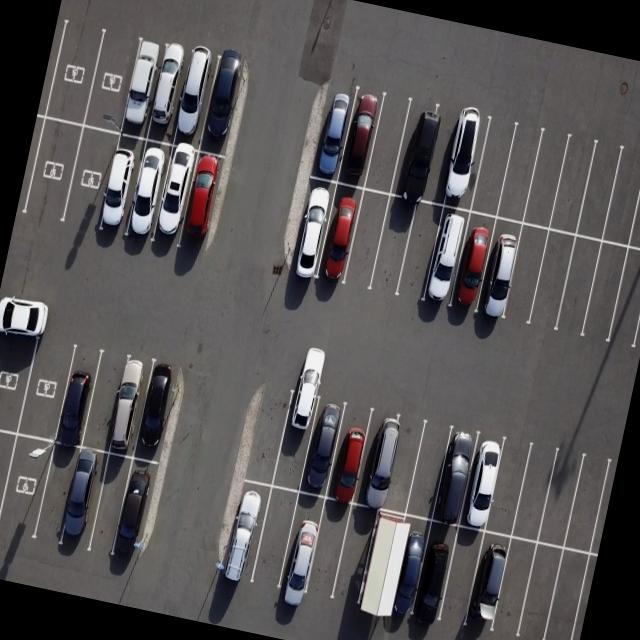car: (369, 514, 431, 628), (404, 520, 464, 634), (217, 478, 274, 592), (274, 486, 330, 600), (94, 352, 153, 459), (175, 149, 232, 256), (92, 130, 146, 242), (388, 97, 446, 201), (122, 135, 176, 246), (147, 142, 201, 252), (110, 458, 165, 566), (426, 427, 483, 530), (463, 531, 517, 639), (314, 182, 368, 290), (327, 506, 382, 612), (59, 448, 112, 556), (268, 386, 322, 492), (49, 346, 103, 452), (353, 409, 408, 512), (444, 208, 496, 316), (474, 215, 526, 322), (322, 401, 376, 504), (289, 177, 340, 286), (420, 204, 472, 310), (453, 432, 508, 532), (296, 394, 349, 497), (336, 88, 388, 192), (438, 112, 491, 214), (132, 361, 184, 464), (167, 48, 217, 150), (198, 54, 248, 156), (117, 38, 166, 140), (311, 83, 359, 185), (146, 43, 192, 142)
free: (16, 328, 80, 442), (19, 114, 82, 226), (60, 123, 120, 236), (432, 520, 491, 632), (42, 15, 102, 124), (247, 486, 304, 598), (349, 508, 406, 618), (82, 29, 141, 134), (80, 348, 138, 454), (484, 535, 542, 640), (298, 498, 354, 606), (0, 435, 55, 542), (575, 238, 628, 344), (240, 384, 294, 488), (528, 228, 581, 333), (391, 200, 445, 303), (532, 448, 586, 551), (509, 541, 565, 640), (552, 232, 604, 337), (362, 92, 415, 195), (498, 221, 550, 325), (562, 452, 614, 556), (29, 442, 81, 546), (398, 420, 452, 520), (508, 441, 561, 542), (341, 190, 392, 294), (484, 436, 536, 538), (365, 195, 417, 297), (84, 454, 134, 560), (548, 135, 600, 235), (540, 547, 595, 640), (464, 120, 515, 219), (574, 142, 624, 242), (494, 126, 544, 226), (519, 130, 569, 228), (378, 417, 428, 515), (0, 315, 39, 436), (597, 146, 640, 246), (604, 244, 640, 353), (0, 425, 15, 537), (627, 152, 640, 252)
